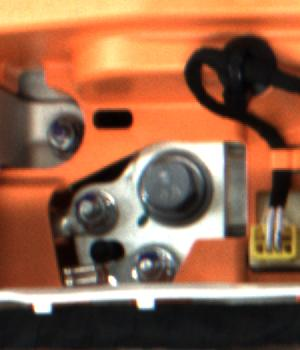nut_b: (128, 142, 214, 229)
screw_s: (67, 186, 115, 231), (36, 111, 78, 150), (128, 244, 171, 280)
